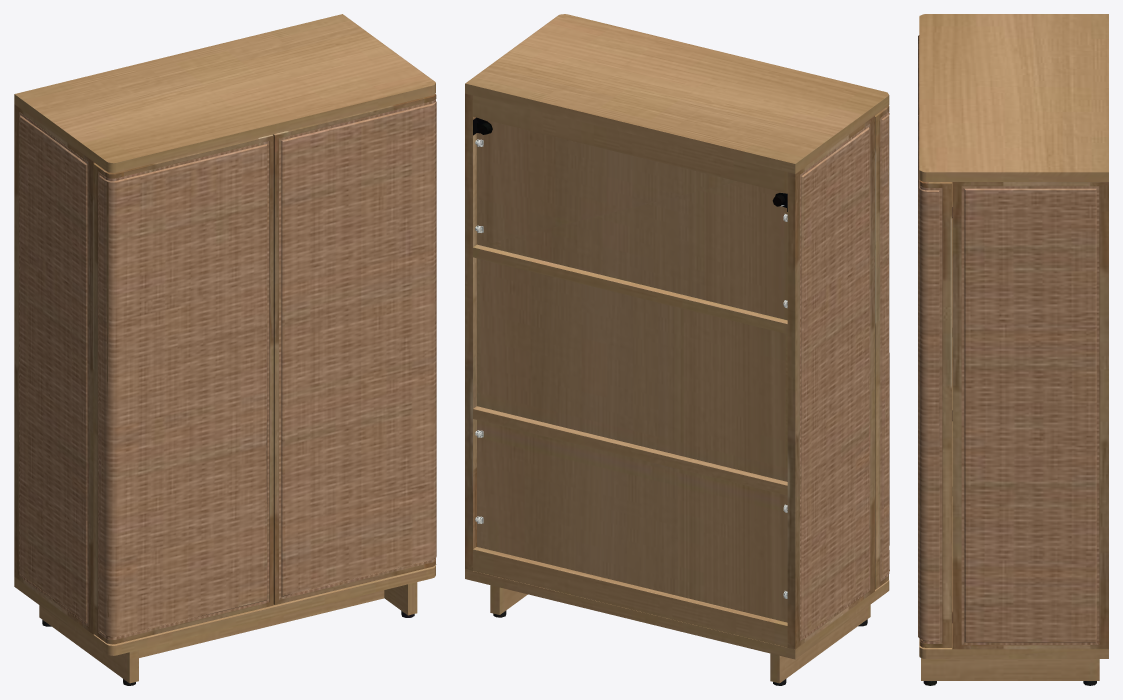
Rendered from 23 - FRYKSÅS Cabinet - rattan 81x124 cm.glb.
3 renders of one model, left to right at view 1: azimuth 30°, elevation 25°; view 2: azimuth 150°, elevation 25°; view 3: azimuth 270°, elevation 25°, orthographic.
Visible parts, largest first — view 1: ASY_ART_40574096_S01_NV01; view 2: ASY_ART_40574096_S01_NV01; view 3: ASY_ART_40574096_S01_NV01.
Boxes of the visible parts, box(x1,y1,x2,y2) form: ASY_ART_40574096_S01_NV01: box(14, 14, 436, 685); ASY_ART_40574096_S01_NV01: box(465, 14, 889, 685); ASY_ART_40574096_S01_NV01: box(918, 14, 1108, 685).
Size of the model in its own units: 0.8083 by 1.24 by 0.4083.
Materials: 1 (1 with a texture image).
